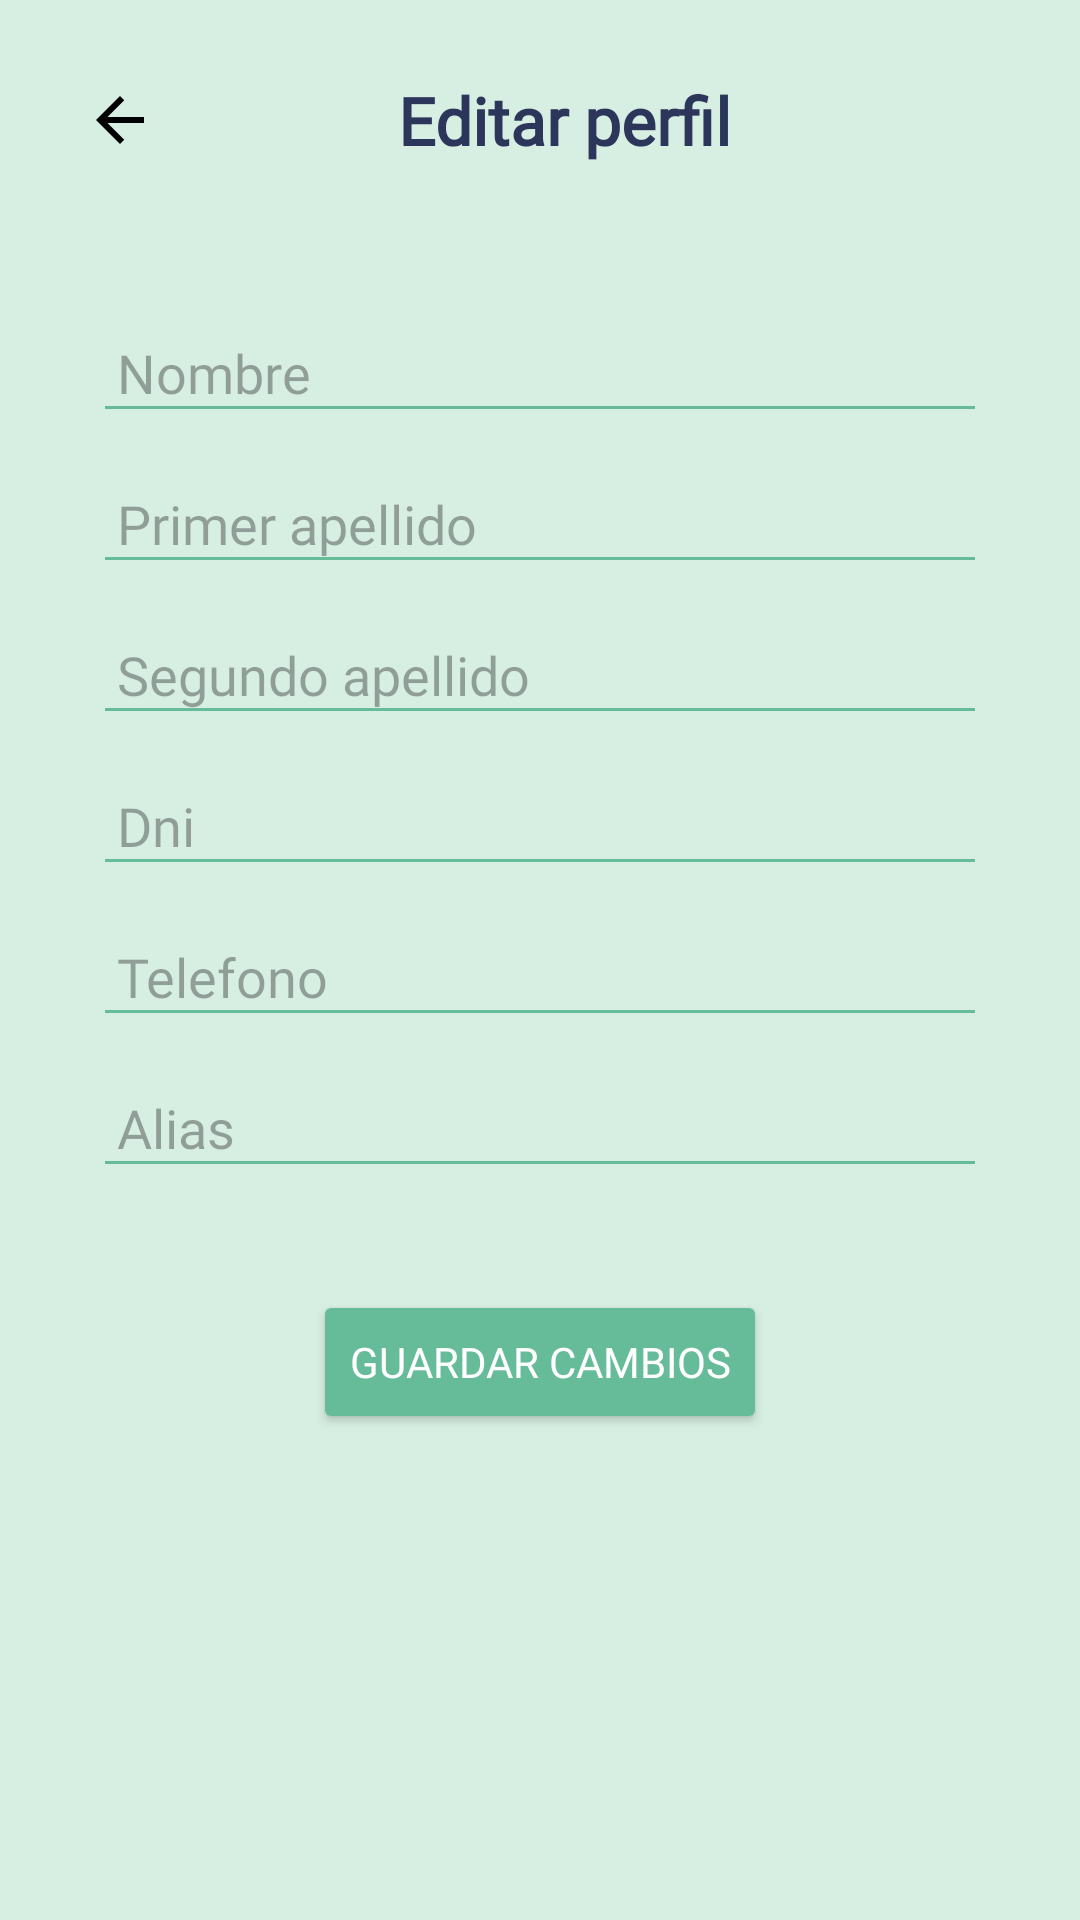

Icon click points for this 1080*1920 phone screenshot, format (x,y):
Volver: (120,120)
